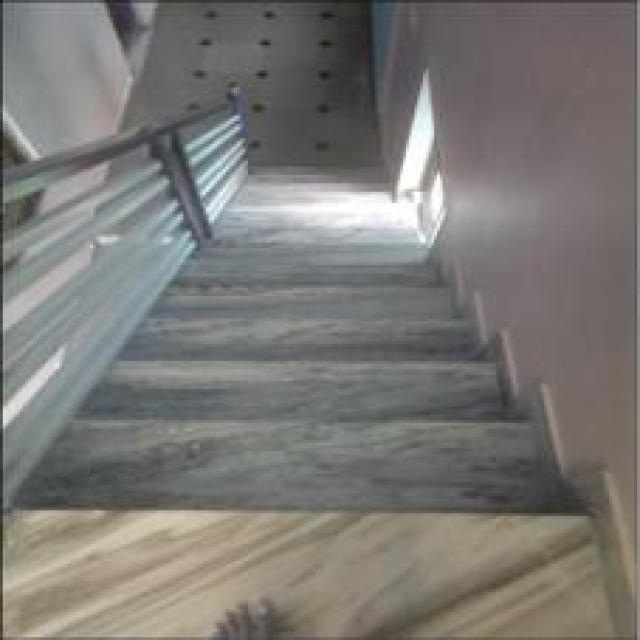stairs: (0, 220, 632, 638)
